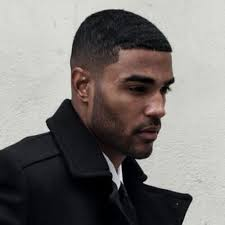black_male: (66, 5, 193, 170)
